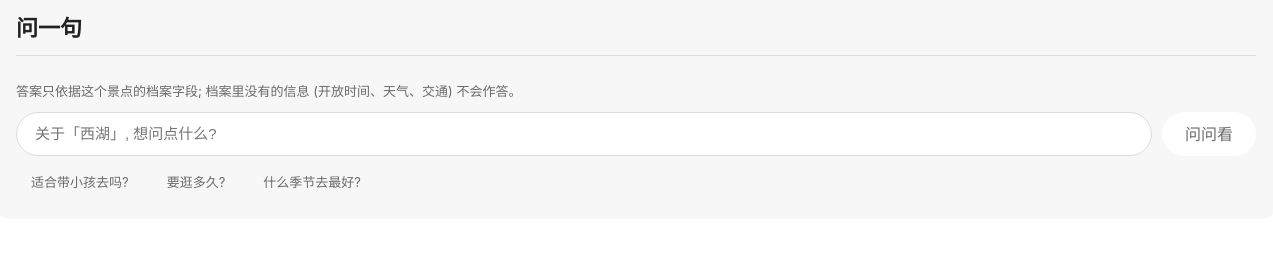
it: AiAskBox › 提交后显示答案与免责声明
The image size is (1273, 257).
Type "要逛多久?" into the field named "就这个景点问一句" at (584, 134), box [16, 112, 1152, 156]
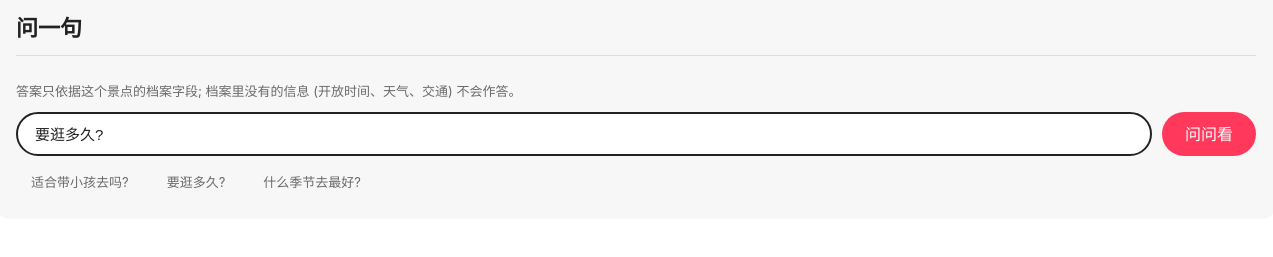
Click the button "问问看" at (1209, 134), box [1162, 112, 1256, 156]
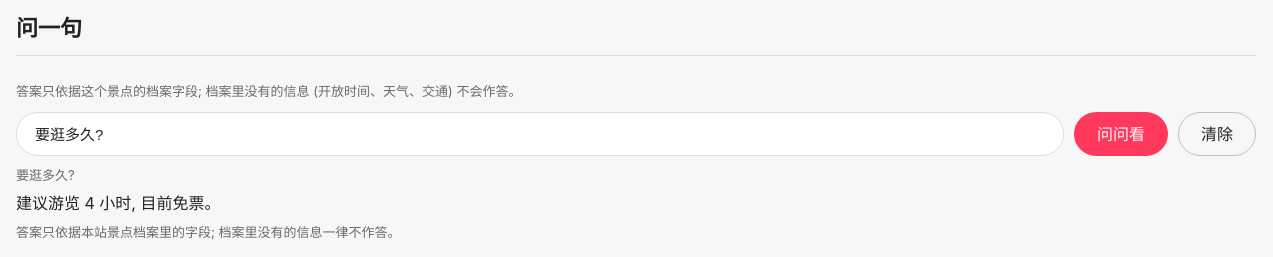
expect the text "建议游览 4 小时, 目前免票。" is shown: met, box [16, 193, 220, 213]
expect the text "答案只依据本站景点档案里的字段; 档案里没有的信息一律不作答。" is shown: met, box [16, 224, 401, 240]
